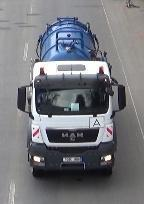truck: (17, 13, 127, 184)
